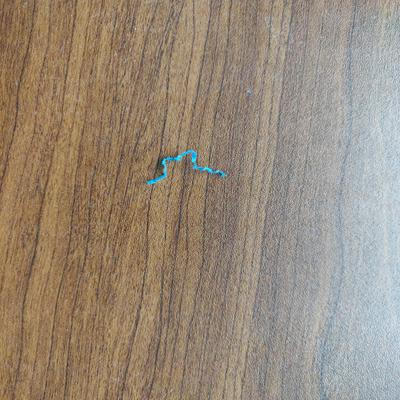thread: (143, 147, 235, 194)
